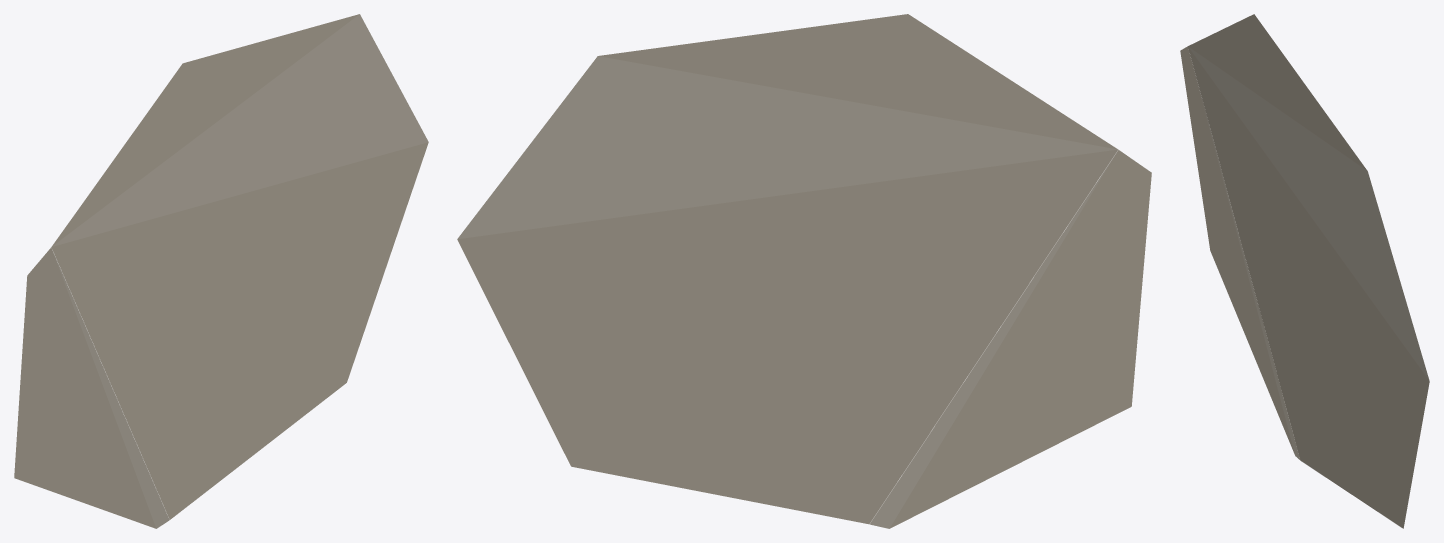
The model's file is SM_MS3_Feed_Eco_09_0.fbx.
3 views of the same model, side by side, from view 1: azimuth 30°, elevation 25°; view 2: azimuth 150°, elevation 25°; view 3: azimuth 270°, elevation 25° (orthographic). The views are drawn at different scales.
Parts seen in each view (by area): view 1: SM_MS3_Feed_Eco_09_0; view 2: SM_MS3_Feed_Eco_09_0; view 3: SM_MS3_Feed_Eco_09_0.
Boxes of the visible parts, left/top/right/bottom form: SM_MS3_Feed_Eco_09_0: left=14, top=14, right=428, bottom=528; SM_MS3_Feed_Eco_09_0: left=457, top=14, right=1151, bottom=528; SM_MS3_Feed_Eco_09_0: left=1180, top=14, right=1429, bottom=528.
Bounding box in the file's own units: 2.7 × 1.18 × 2.31.
